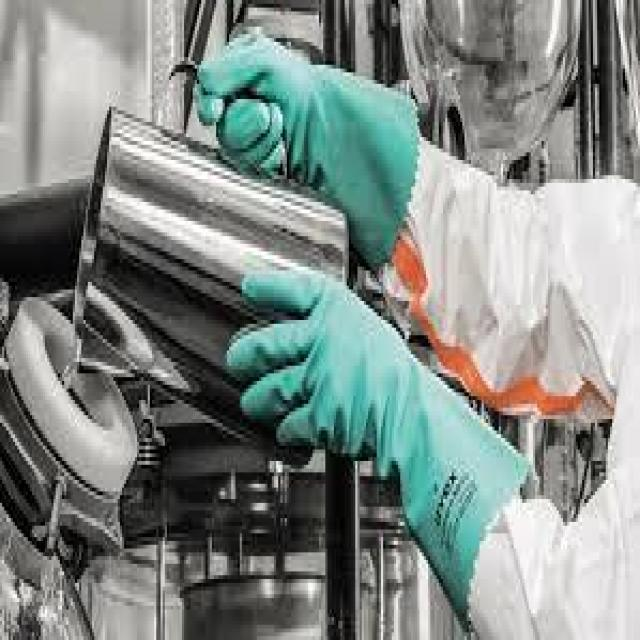Gloves: (223, 252, 513, 583), (190, 18, 422, 260)
